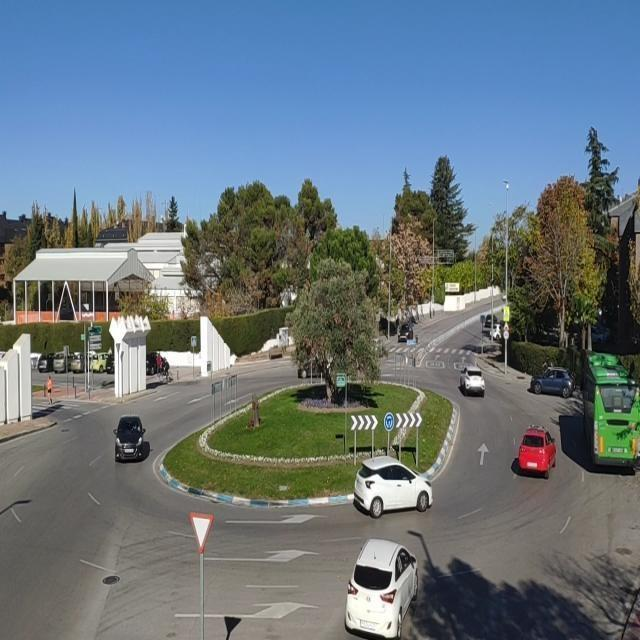Bus: (577, 350, 640, 470)
Car: (344, 538, 420, 638), (352, 455, 434, 518), (516, 426, 556, 477), (112, 415, 146, 461), (531, 366, 575, 397), (459, 366, 485, 396), (296, 359, 328, 378), (145, 352, 168, 376), (52, 350, 74, 374), (90, 351, 110, 373), (37, 352, 55, 374), (398, 322, 414, 342), (488, 323, 505, 341), (71, 351, 84, 373), (591, 326, 606, 345), (484, 313, 499, 328), (106, 352, 114, 374)
